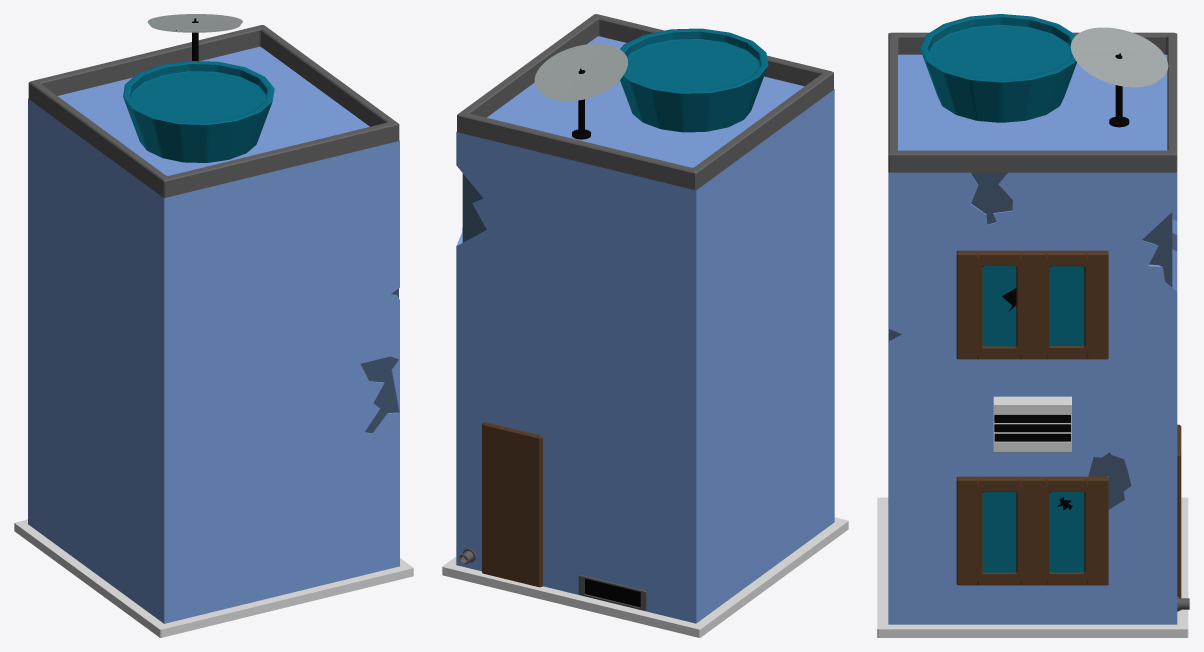
The model's file is Building #06.fbx.
3 views of the same model, side by side, from view 1: azimuth 30°, elevation 25°; view 2: azimuth 150°, elevation 25°; view 3: azimuth 270°, elevation 25° (orthographic). The views are drawn at different scales.
Visible parts, largest first — view 1: House.002, House.001, Roof.001, Box, Floor, Metal, Crack.004; view 2: House.002, House.001, Roof.001, Box, Door, Floor, Metal, Crack.005, Exit.002, Exit.001; view 3: House.002, House.001, Box, Wooden.001, Wooden.002, Roof.001, Floor, Window.002, Window.001, Metal, Air.002, Air.001 (+4 smaller).
Part boxes in pixels (x1,y1,x2,y2): House.002: (28,46,399,411); House.001: (28,312,399,623); Roof.001: (28,25,399,197); Box: (123,61,274,162); Floor: (14,519,413,637); Metal: (147,14,242,32); Crack.004: (360,356,398,433); House.002: (456,36,834,407); House.001: (456,306,834,623); Roof.001: (457,14,833,190); Box: (620,28,768,132); Door: (482,422,542,587); Floor: (442,517,848,637); Metal: (534,43,627,101); Crack.005: (462,173,486,242); Exit.002: (584,578,640,607); Exit.001: (578,575,647,610); House.002: (888,54,1177,399); House.001: (888,399,1177,624); Box: (920,14,1076,122); Wooden.001: (956,250,1108,359); Wooden.002: (956,476,1108,585); Roof.001: (888,32,1177,172); Floor: (877,497,1188,637); Window.002: (982,492,1084,572); Window.001: (982,266,1084,346); Metal: (1070,27,1168,87); Air.002: (993,396,1071,452); Air.001: (994,415,1070,441).
Size of the model in its own units: 187 by 348 by 183.
